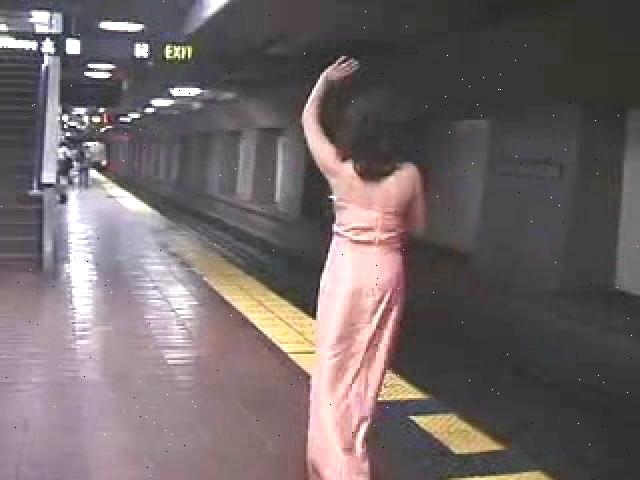L: (291, 39, 435, 480)
